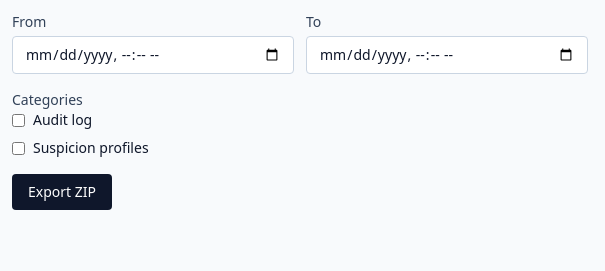
ComplianceForm › requires at least one category selected
This screenshot has width=605, height=271.
Click the button "Export ZIP": {"x": 62, "y": 192} [12,174,112,210]
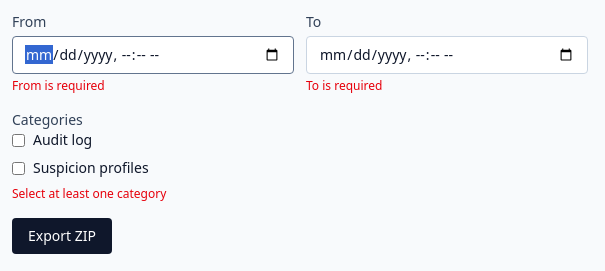
Expected: the text "Select at least one category" is shown, [12,185,166,202]
